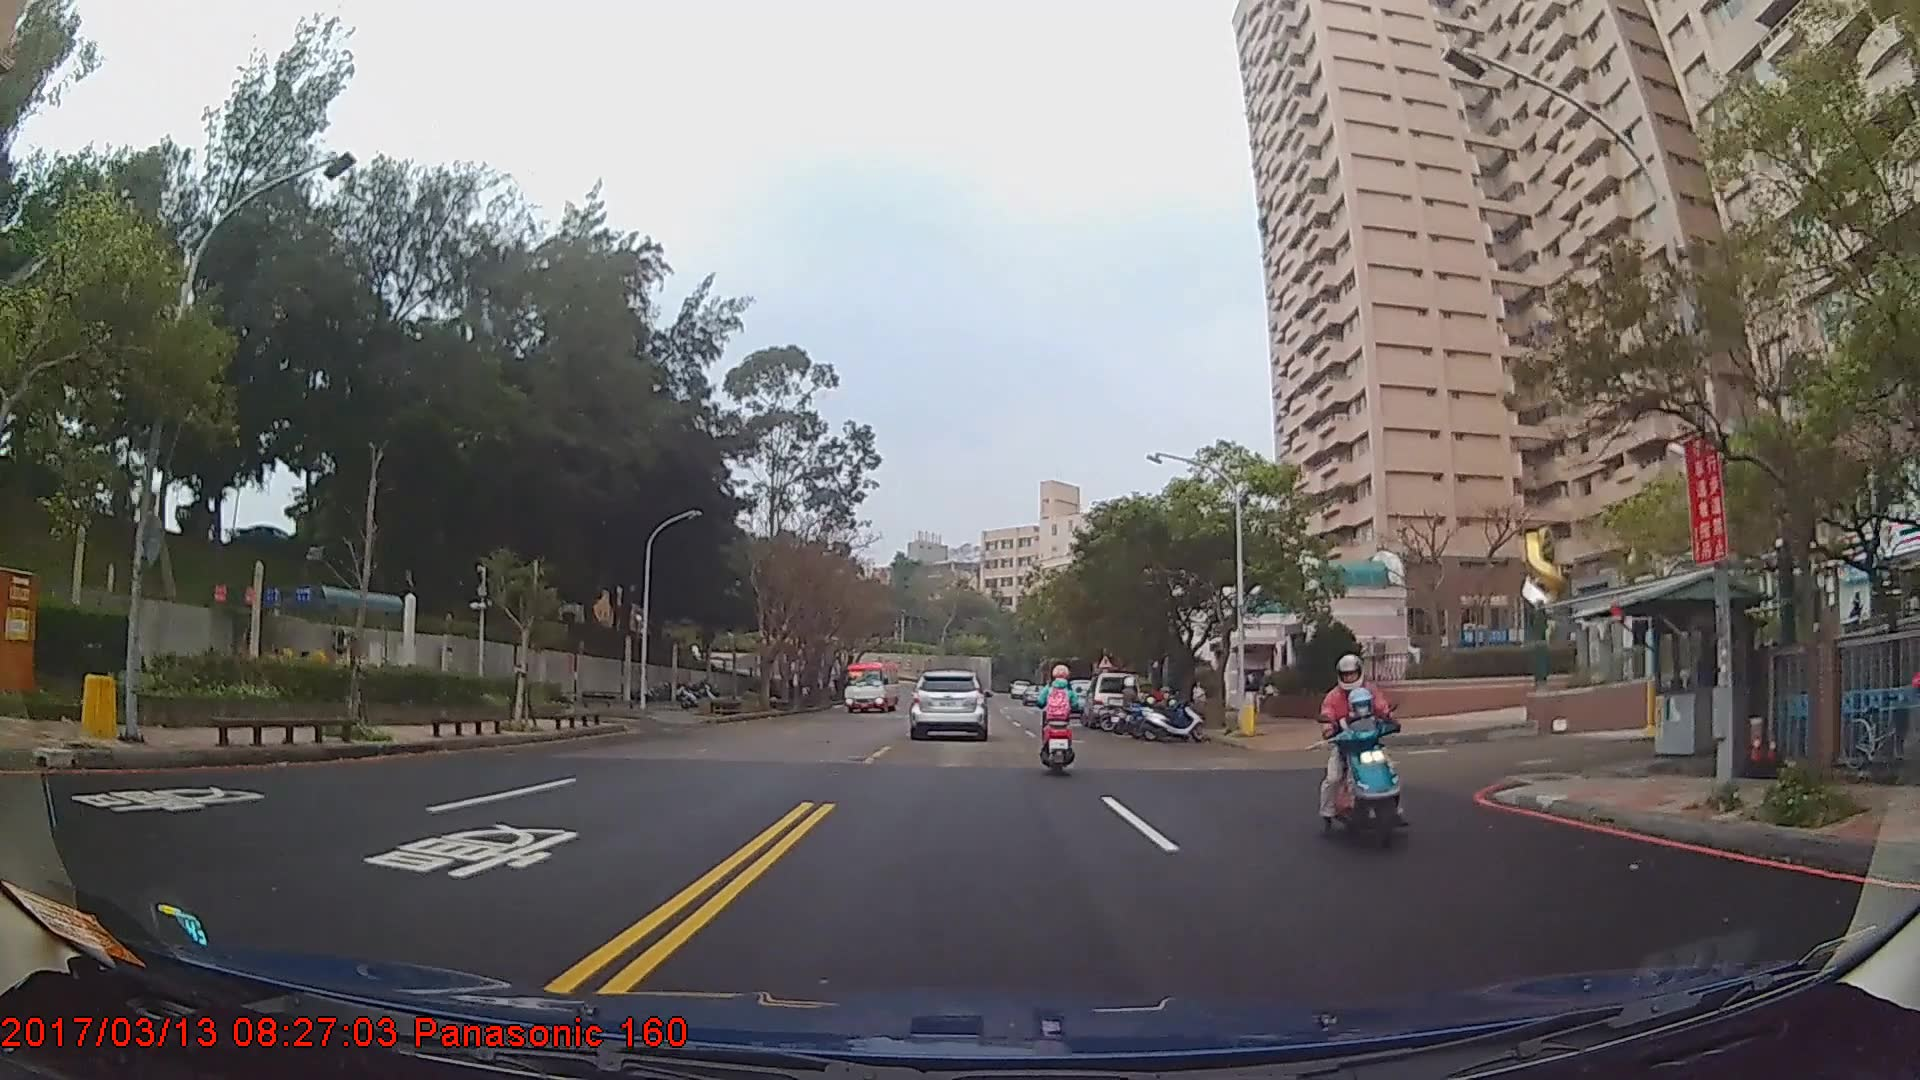rider: (1317, 662, 1402, 842), (1036, 665, 1081, 784), (1110, 679, 1149, 739)
vehicle: (910, 670, 988, 745), (1081, 670, 1143, 727), (842, 661, 901, 714)
